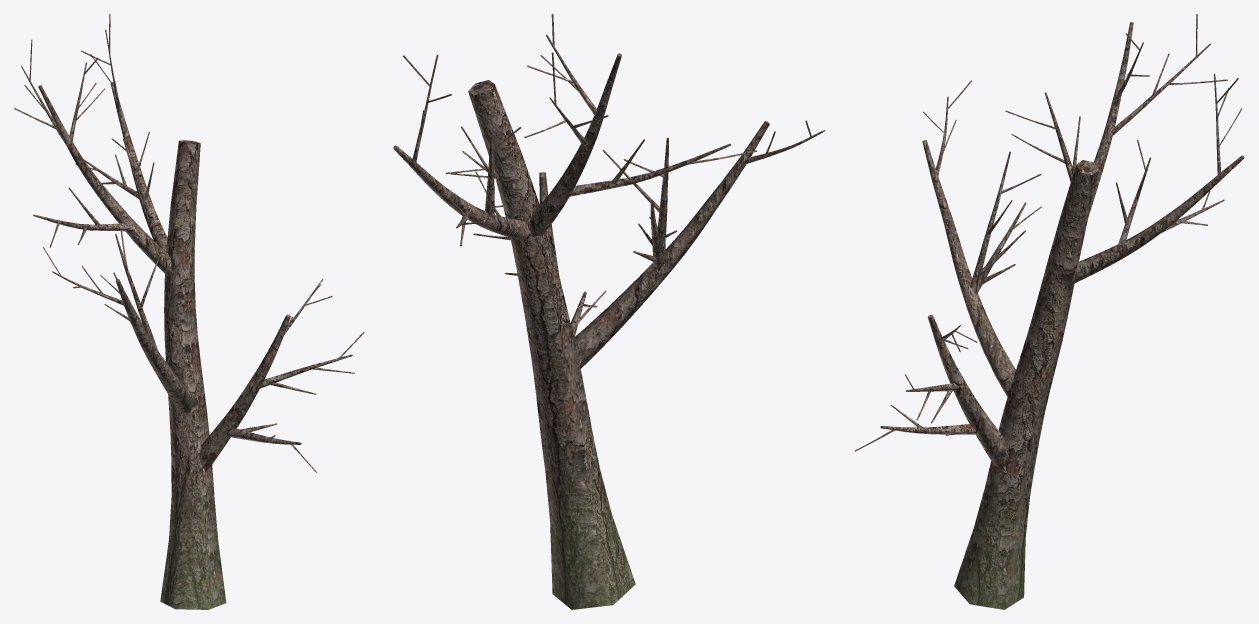
The model's file is oak2_trunk.glb.
3 views of the same model, side by side, from view 1: azimuth 30°, elevation 25°; view 2: azimuth 150°, elevation 25°; view 3: azimuth 270°, elevation 25° (orthographic). The views are drawn at different scales.
Parts seen in each view (by area): view 1: trunk; view 2: trunk; view 3: trunk.
Boxes of the visible parts, x1=… form: trunk: x1=14, y1=14, x2=364, y2=609; trunk: x1=393, y1=14, x2=825, y2=609; trunk: x1=855, y1=14, x2=1244, y2=609.
Size of the model in its own units: 3.86 by 6.45 by 4.16.
1 material, 1 textured.
